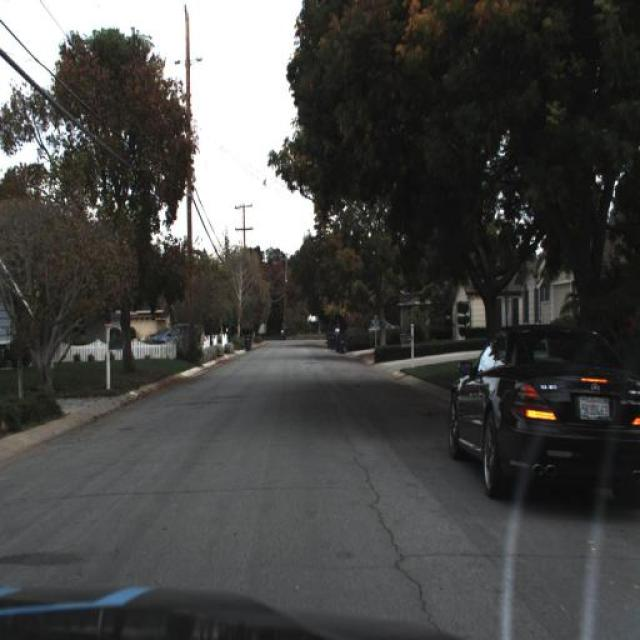car: (446, 324, 640, 506), (144, 317, 214, 353)
